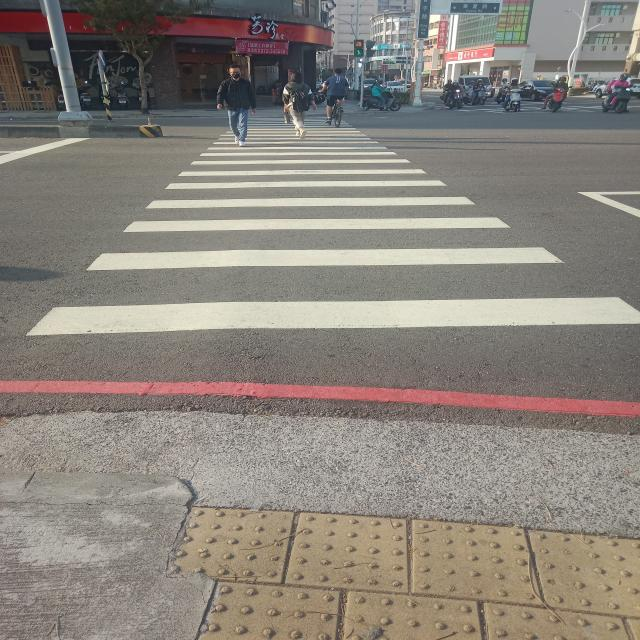zebra_crossing: (151, 63, 456, 186), (166, 53, 501, 158), (123, 60, 371, 177), (214, 0, 247, 290)
